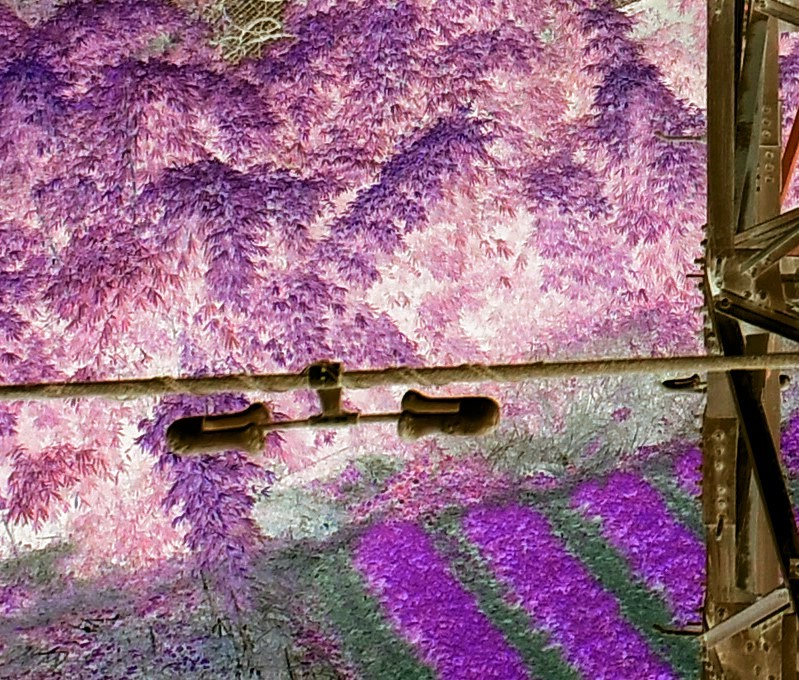Shockproof hammer: (154, 351, 511, 457)
